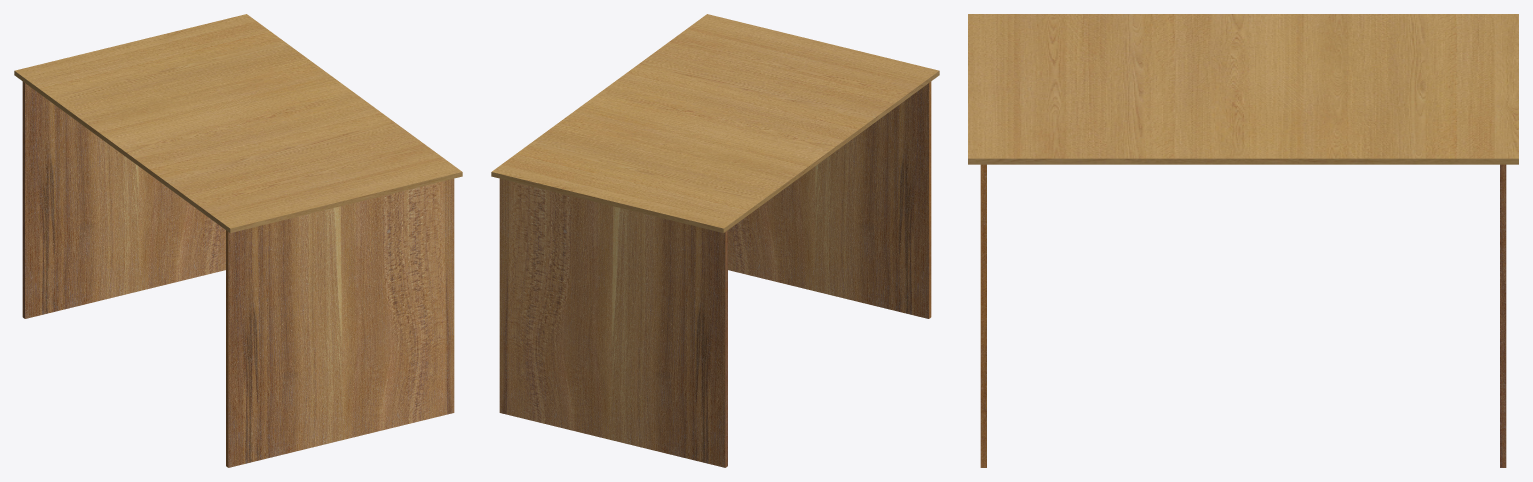
The model's file is table(v1.0).fbx.
3 renders of one model, left to right at view 1: azimuth 30°, elevation 25°; view 2: azimuth 150°, elevation 25°; view 3: azimuth 270°, elevation 25°, orthographic. The views are drawn at different scales.
Parts seen in each view (by area): view 1: legs, tsble; view 2: legs, tsble; view 3: tsble, legs.
Part boxes in pixels (bbox=[...]): legs: bbox=[22, 81, 454, 467]; tsble: bbox=[14, 14, 462, 232]; legs: bbox=[499, 81, 931, 467]; tsble: bbox=[491, 14, 939, 232]; tsble: bbox=[968, 14, 1518, 164]; legs: bbox=[980, 164, 1506, 467].
Size of the model in its own units: 0.7483 by 1.2 by 0.7501.
